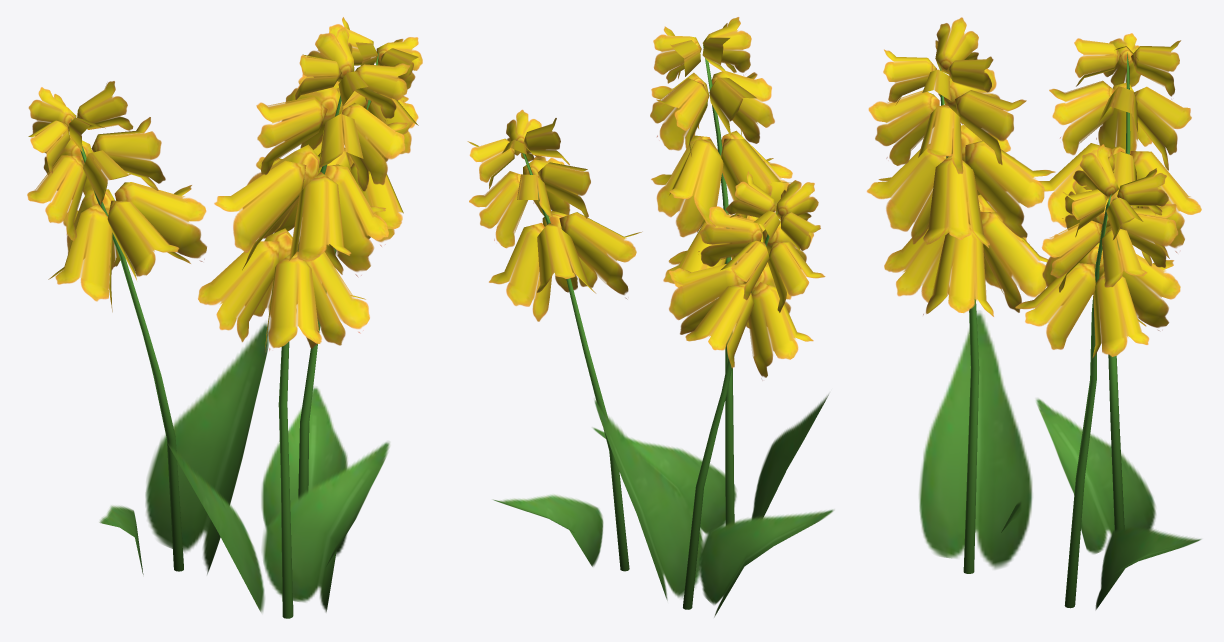
File: flowergroup2.glb
3 views of the same model, side by side, from view 1: azimuth 30°, elevation 25°; view 2: azimuth 150°, elevation 25°; view 3: azimuth 270°, elevation 25° (orthographic). The views are drawn at different scales.
Visible parts, largest first — view 1: Flower_4_Group; view 2: Flower_4_Group; view 3: Flower_4_Group.
Boxes of the visible parts, left/top/right/bottom form: Flower_4_Group: left=27, top=17, right=422, bottom=618; Flower_4_Group: left=467, top=17, right=833, bottom=617; Flower_4_Group: left=866, top=17, right=1201, bottom=609.
Bounding box in the file's own units: 1.78 × 2.49 × 1.37.
Materials: 2 (2 with a texture image).
